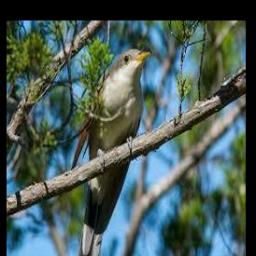Cuckoo: (70, 48, 152, 256)
